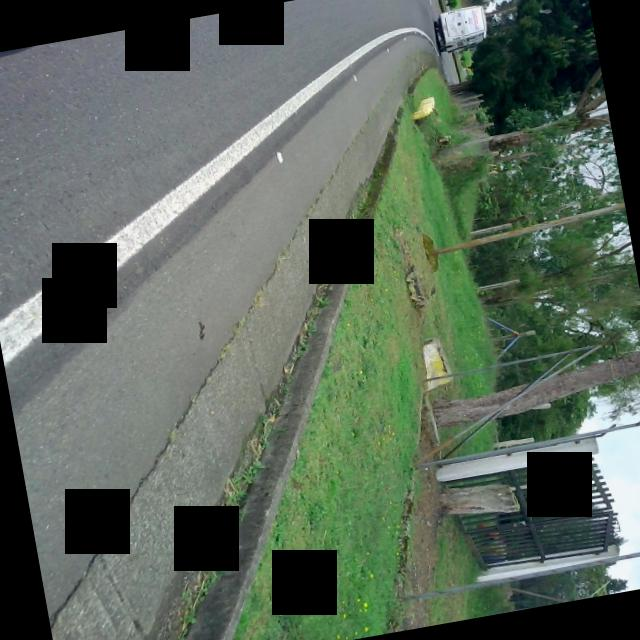DITCH: (0, 30, 545, 640)
